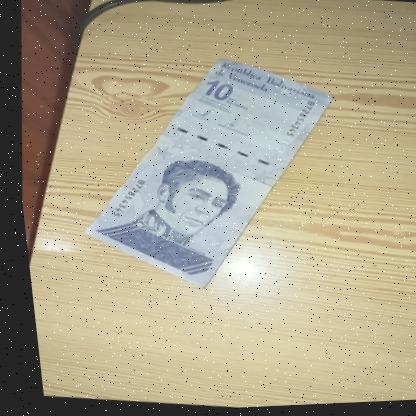vef_front: (57, 40, 352, 307)
